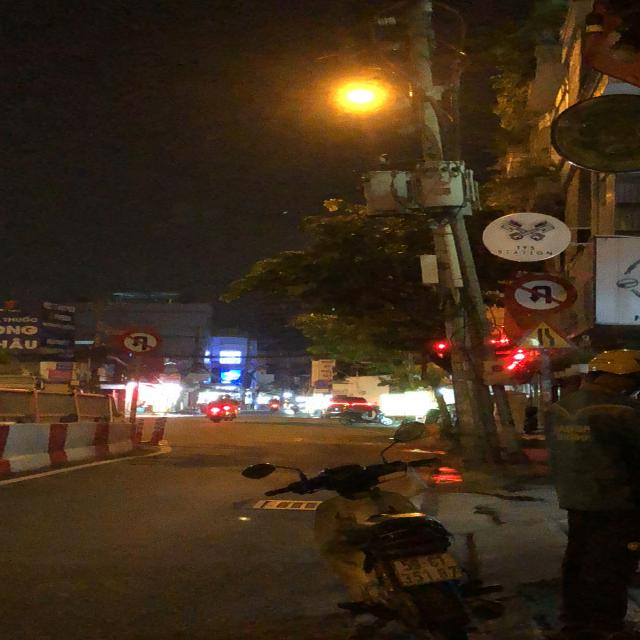Bien bao cam quay dau xe: (494, 272, 580, 317), (115, 329, 165, 357)
Bien bao duong bi thu hep: (500, 322, 584, 357)
